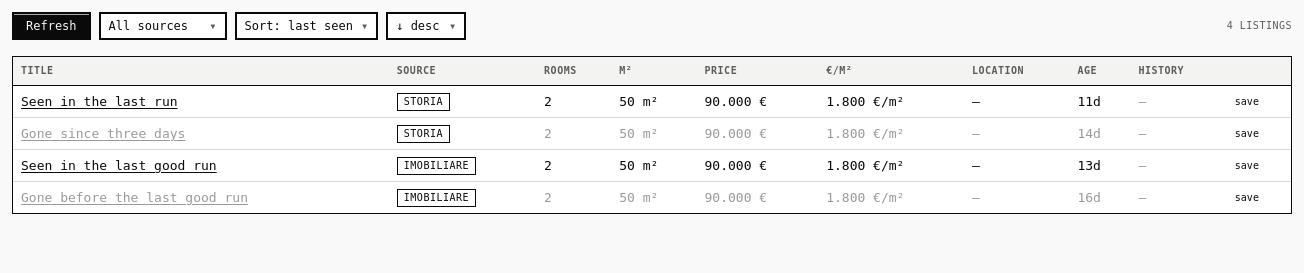
Test: <ListingsPage> staleness › says when another Refresh is already running (409)
The image size is (1304, 273).
Expected: the link "Seen in the last run" is shown, [21,94,178,108]
Click the button "Refresh" at (51, 26), box [12,12,91,40]
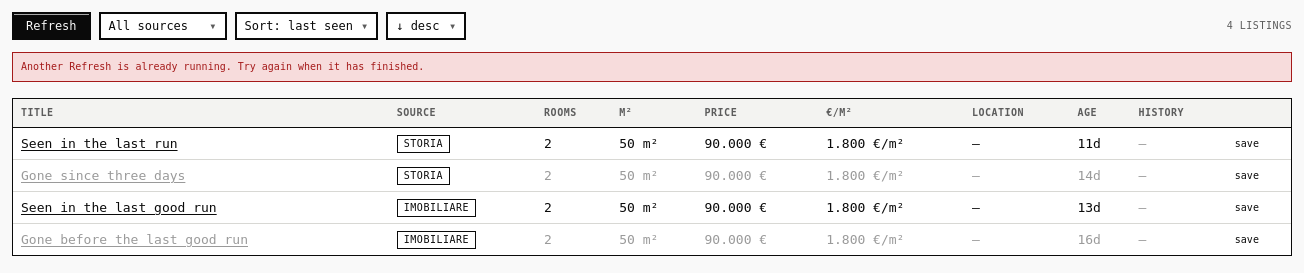
Expected: the message reads "Another Refresh is already running. Try again when it has finished.", [21,61,424,72]
